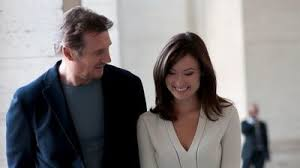No-Glasses: (162, 67, 200, 78)
